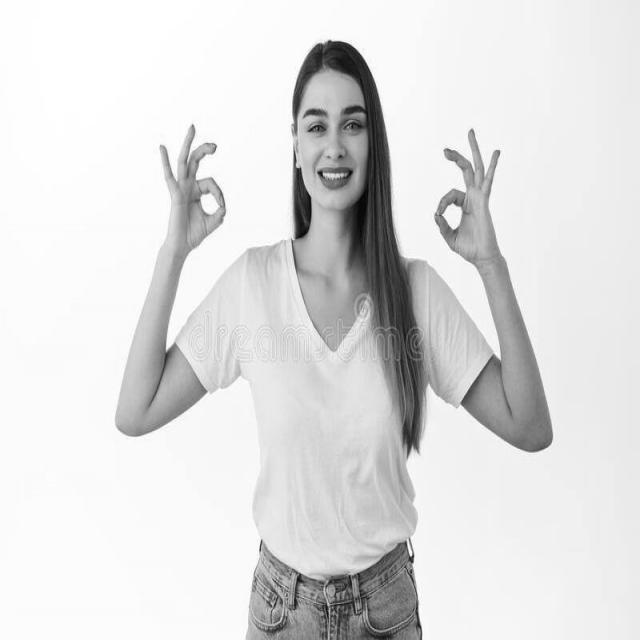perfect: (430, 120, 510, 288), (154, 115, 230, 268)
